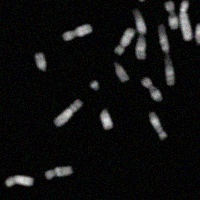chromosome: (158, 26, 175, 86), (52, 98, 83, 127), (133, 6, 147, 59), (180, 0, 194, 41), (114, 28, 136, 54), (141, 77, 162, 103), (63, 23, 93, 41), (148, 111, 167, 139), (44, 165, 73, 180), (163, 1, 178, 28), (4, 174, 33, 187), (112, 61, 129, 81), (33, 51, 48, 73), (100, 108, 114, 130), (195, 23, 200, 45), (90, 79, 100, 90), (137, 0, 167, 2)
